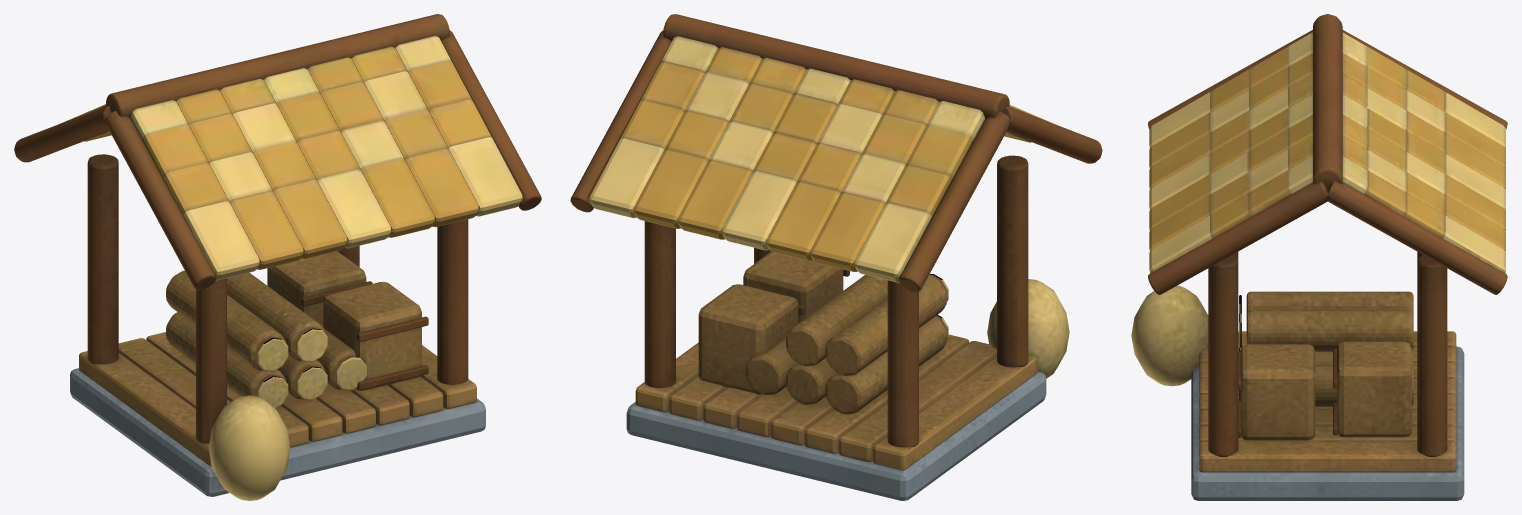
The model's file is stockpile.glb.
3 views of the same model, side by side, from view 1: azimuth 30°, elevation 25°; view 2: azimuth 150°, elevation 25°; view 3: azimuth 270°, elevation 25° (orthographic). The views are drawn at different scales.
Parts seen in each view (by area): view 1: Crate; view 2: Crate; view 3: Crate.
Part boxes in pixels (x1,y1,x2,y2): Crate: (14,14,541,500); Crate: (570,14,1102,500); Crate: (1131,14,1507,500).
Bounding box in the file's own units: 2.47 × 2.46 × 2.41.
1 material, 1 textured.
